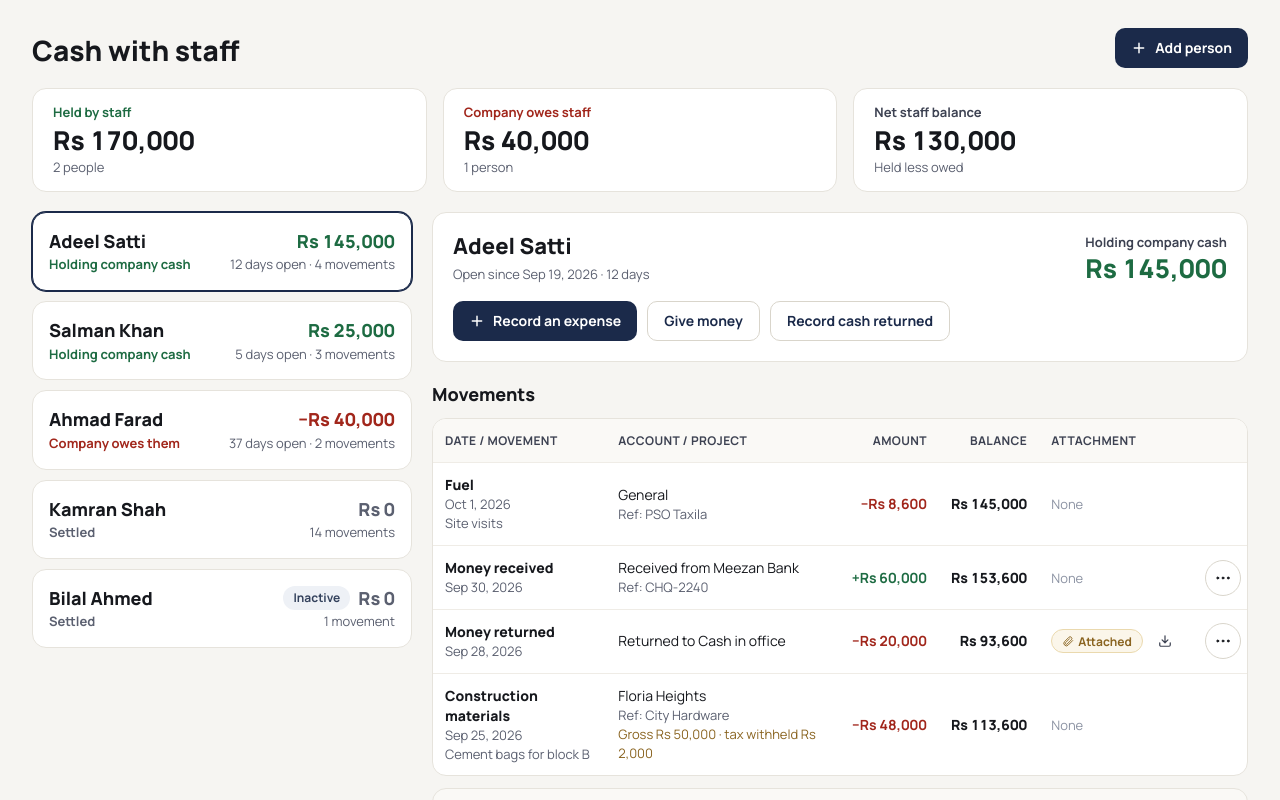
Test: Cash with staff: the open person › shows a failed attachment in a toast
Click the button "Attached": click(1097, 641) [1051,629,1143,653]
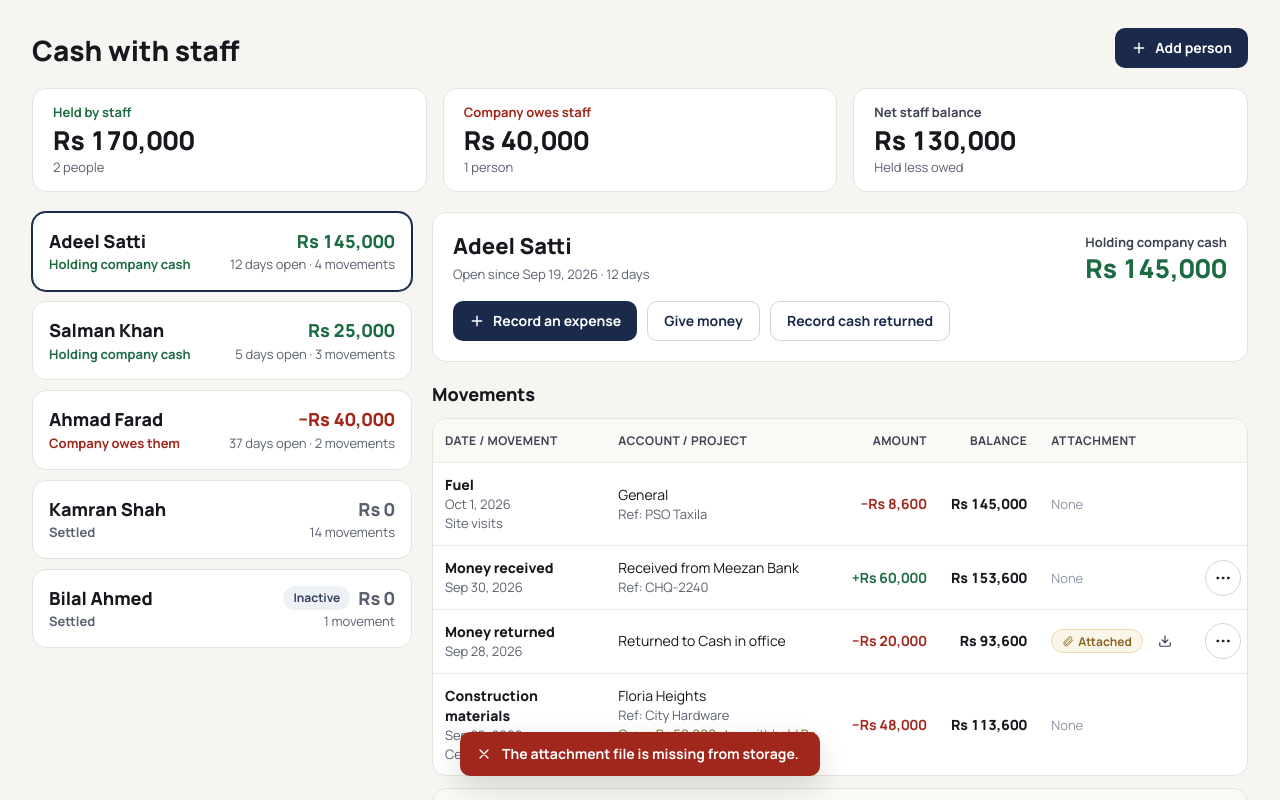
Expected: the text "The attachment file is missing from storage." is shown, [502,744,804,764]
